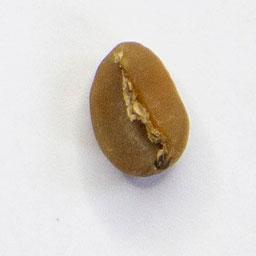defect: (87, 40, 193, 180)
